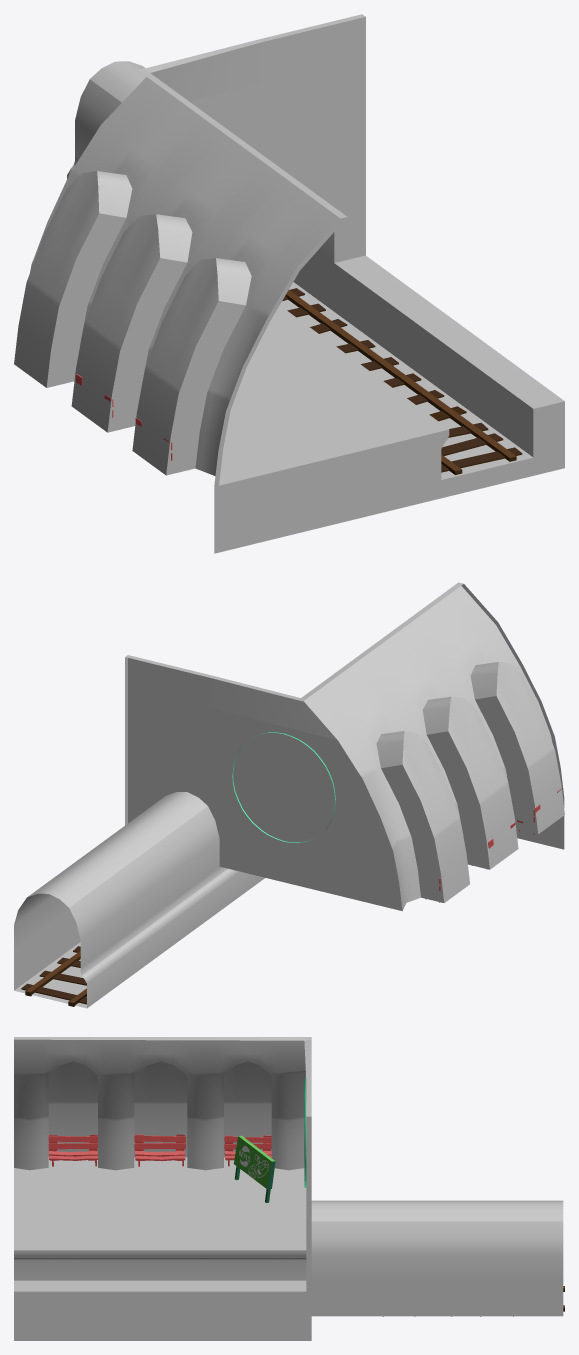
Rendered from station 3.fbx.
The picture shows the model from 3 angles, top to bottom: view 1: azimuth 30°, elevation 25°; view 2: azimuth 150°, elevation 25°; view 3: azimuth 270°, elevation 25°; orthographic projection. The views are drawn at different scales.
Visible parts, largest first — view 1: env_1, track_1; view 2: env_1, track_1; view 3: env_1, sign, polySurface9, polySurface12, polySurface11.
Boxes of the visible parts, bbox=[...] form: env_1: bbox=[14, 14, 564, 553]; track_1: bbox=[282, 288, 522, 474]; env_1: bbox=[14, 582, 564, 1008]; track_1: bbox=[21, 946, 86, 1006]; env_1: bbox=[14, 1037, 563, 1340]; sign: bbox=[233, 1135, 275, 1202]; polySurface9: bbox=[134, 1134, 185, 1166]; polySurface12: bbox=[48, 1134, 97, 1166]; polySurface11: bbox=[224, 1135, 271, 1166].
Bounding box in the file's own units: 21.51 × 16.74 × 37.27.
